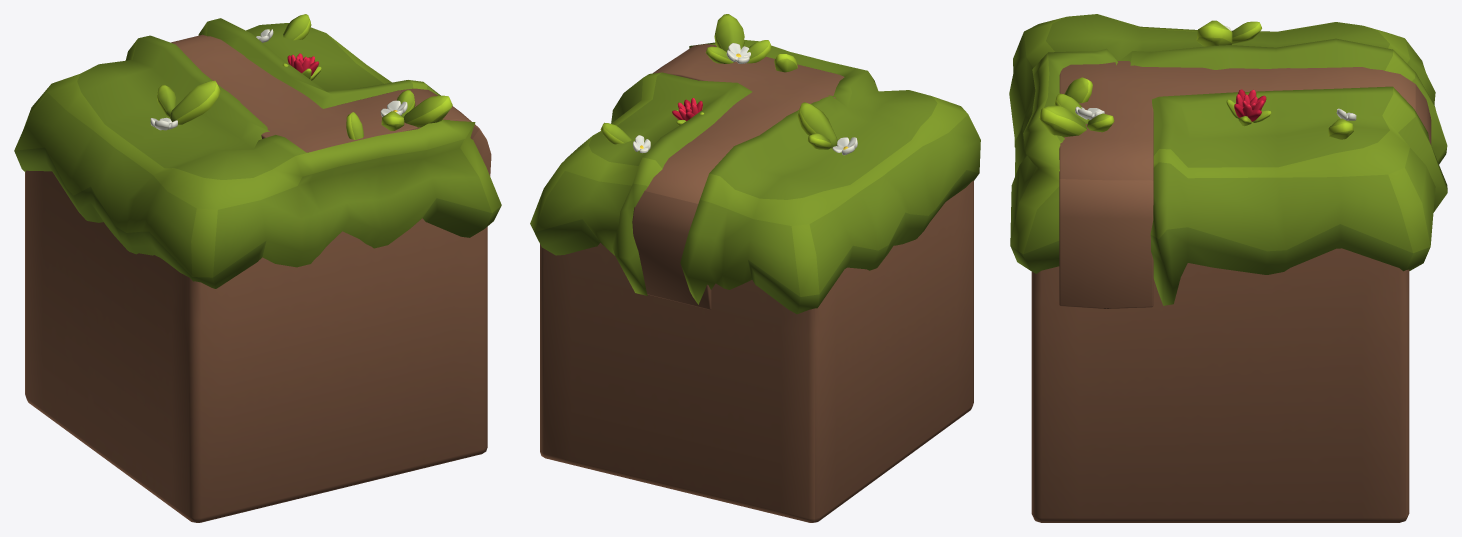
The model's file is deneme.fbx.
3 renders of one model, left to right at view 1: azimuth 30°, elevation 25°; view 2: azimuth 150°, elevation 25°; view 3: azimuth 270°, elevation 25°, orthographic. The views are drawn at different scales.
Visible parts, largest first — view 1: Spring4, Spring_Cube4.002, Spring4.001, Spring_Cube_04.002; view 2: Spring4, Spring_Cube4.002, Spring4.001, Spring_Cube_04.002; view 3: Spring4, Spring_Cube4.002, Spring4.001, Spring_Cube_04.002.
Part boxes in pixels (bbox=[...]): Spring4: bbox=[25, 170, 487, 522]; Spring_Cube4.002: bbox=[14, 18, 501, 288]; Spring4.001: bbox=[171, 34, 491, 175]; Spring_Cube_04.002: bbox=[150, 14, 452, 139]; Spring4: bbox=[540, 180, 973, 522]; Spring_Cube4.002: bbox=[530, 40, 980, 314]; Spring4.001: bbox=[632, 44, 844, 309]; Spring_Cube_04.002: bbox=[600, 14, 857, 155]; Spring4: bbox=[1031, 248, 1409, 522]; Spring_Cube4.002: bbox=[1009, 14, 1447, 305]; Spring4.001: bbox=[1059, 61, 1431, 308]; Spring_Cube_04.002: bbox=[1039, 20, 1356, 139].
Bounding box in the file's own units: 116 × 116 × 116.
